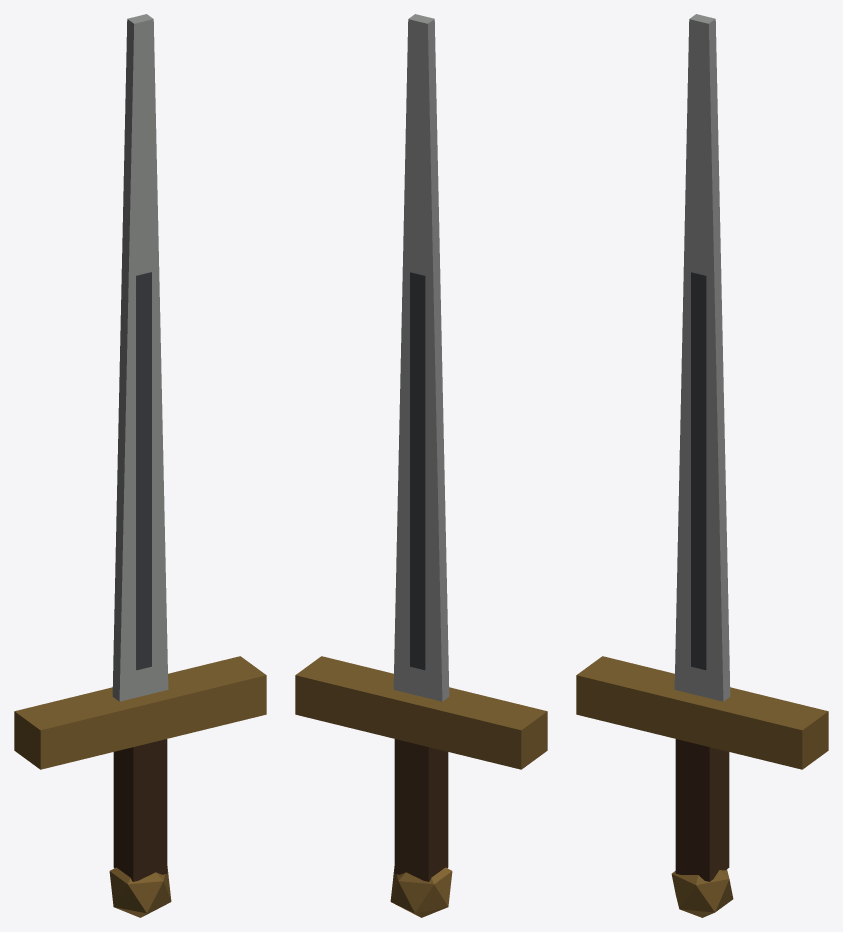
The model's file is watchmans_edge.glb.
The picture shows the model from 3 angles, left to right: view 1: azimuth 30°, elevation 25°; view 2: azimuth 150°, elevation 25°; view 3: azimuth 330°, elevation 25°; orthographic projection.
Parts seen in each view (by area): view 1: WatchmansEdge; view 2: WatchmansEdge; view 3: WatchmansEdge.
Boxes of the visible parts, <box> form: WatchmansEdge: <box>14,14,266,917</box>; WatchmansEdge: <box>295,14,547,917</box>; WatchmansEdge: <box>576,14,828,917</box>.
Size of the model in its own units: 0.3 by 1.14 by 0.0681.
